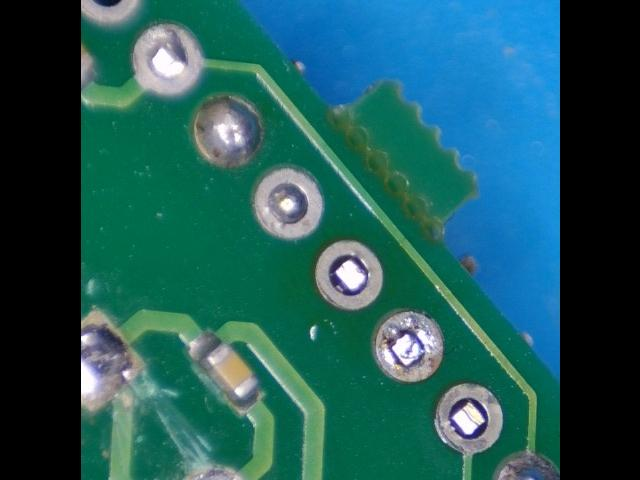Dry_joint: (134, 25, 201, 96), (256, 169, 323, 239), (376, 313, 443, 383), (195, 96, 262, 166)
